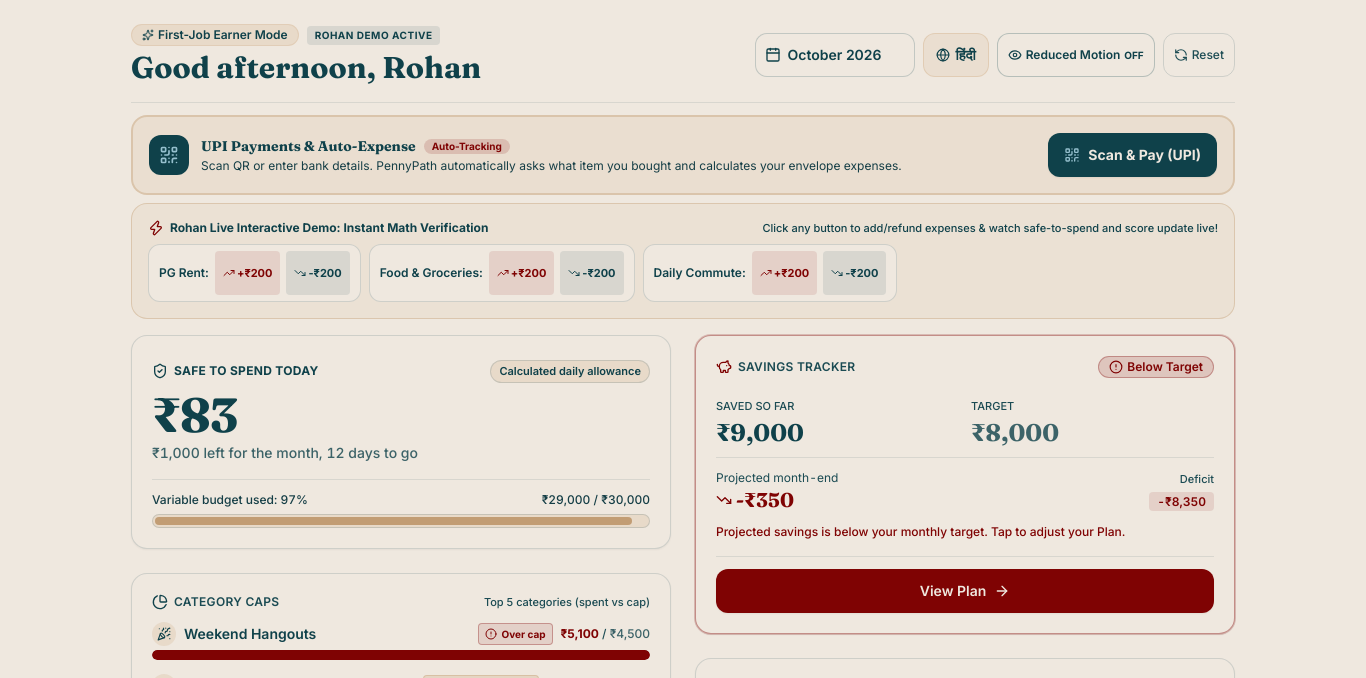
it: Home Dashboard Component Suite › opens Plan screen modal on one tap from Savings Tracker card
Step 1. Click the button labelled "View Plan" → (965, 590), box [716,568,1214,612]
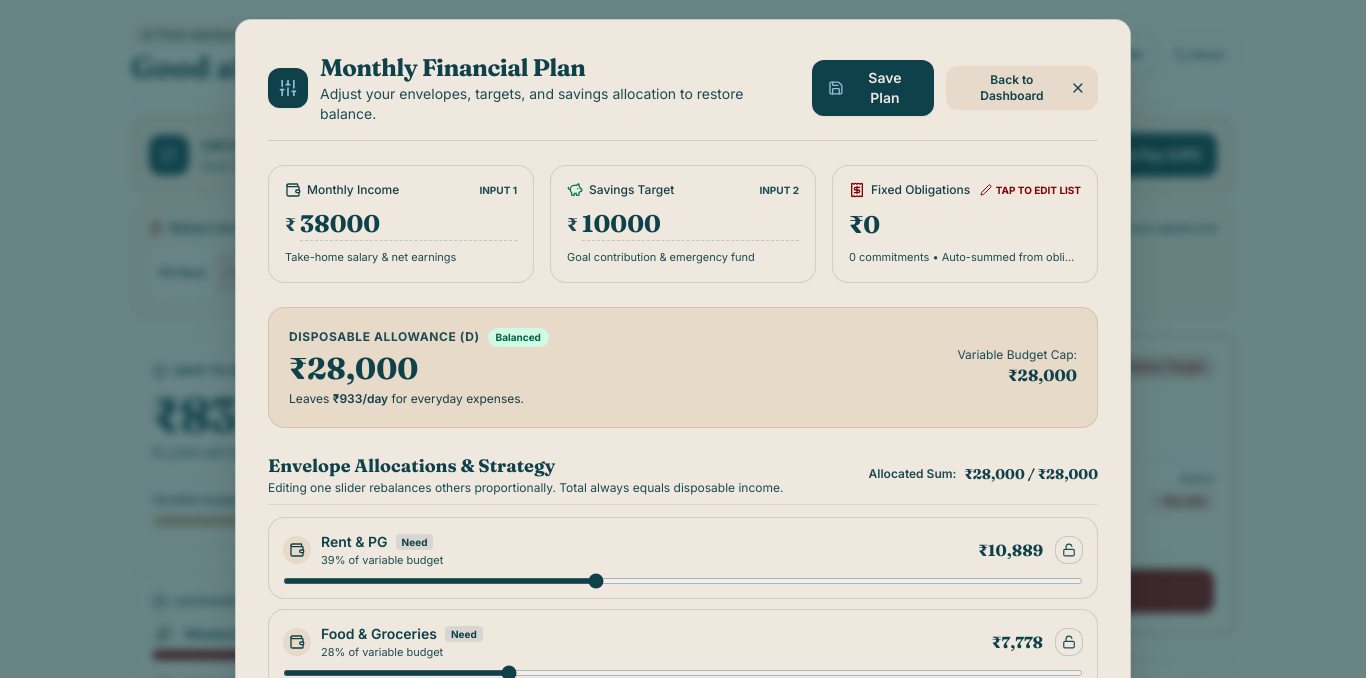
Expected: the heading "Monthly Financial Plan" is shown, [320,53,585,82]
Expected: the heading "Envelope Allocations & Strategy" is shown, [268,454,555,477]
Step 2. Click the button "Back to Dashboard" → (1022, 88), box [946,66,1098,110]
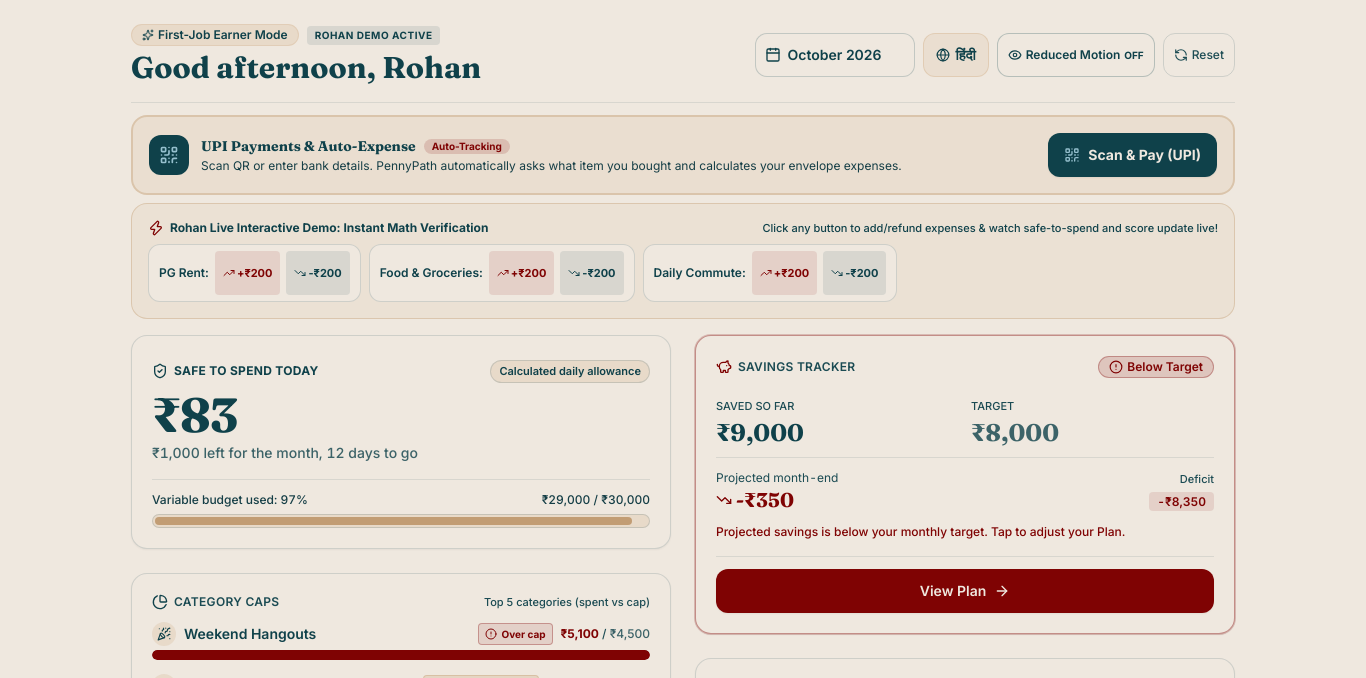
Expected: the heading "Envelope Allocations & Strategy" is gone
